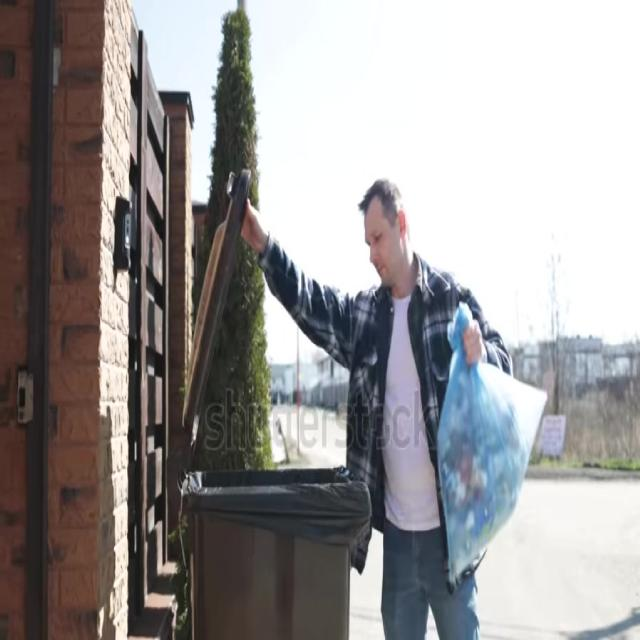garbage_dumping: (427, 298, 550, 586)
